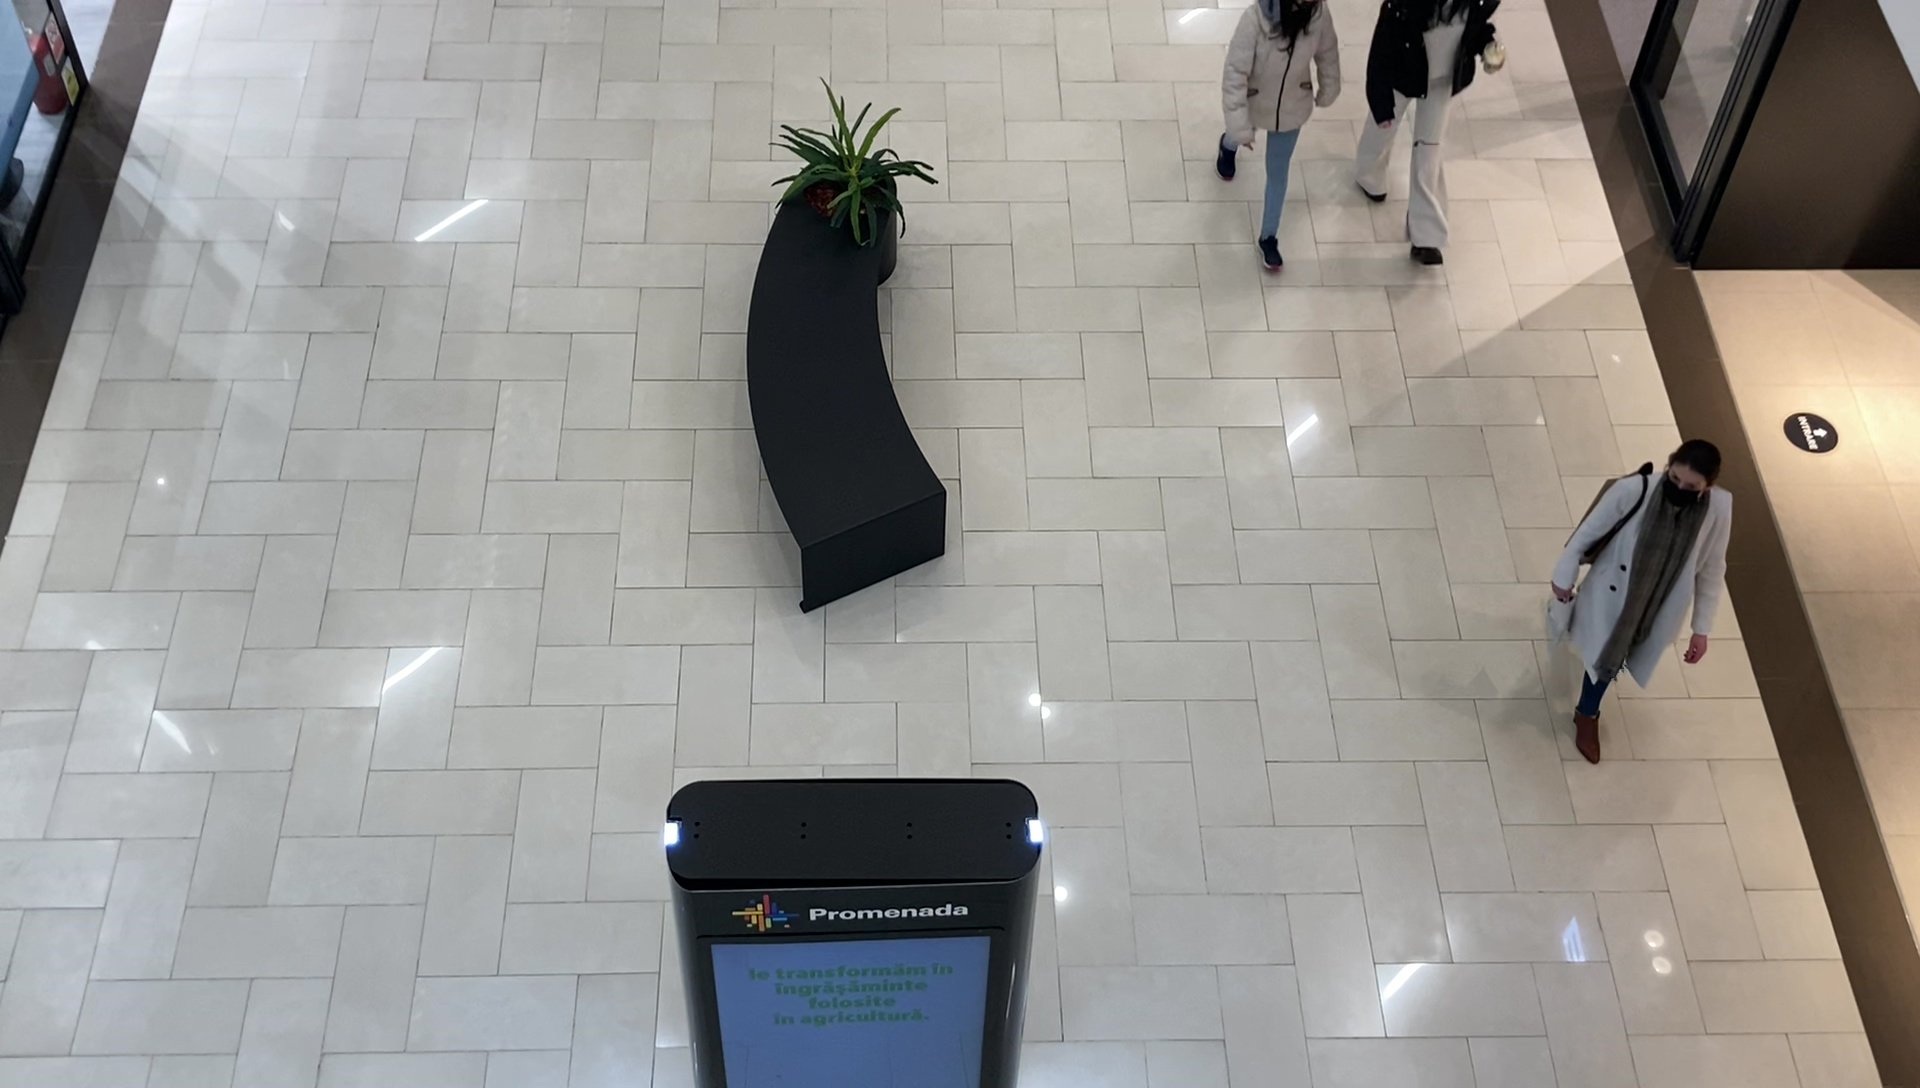person: (1555, 440, 1733, 764), (1359, 1, 1505, 266), (1217, 1, 1344, 273)
